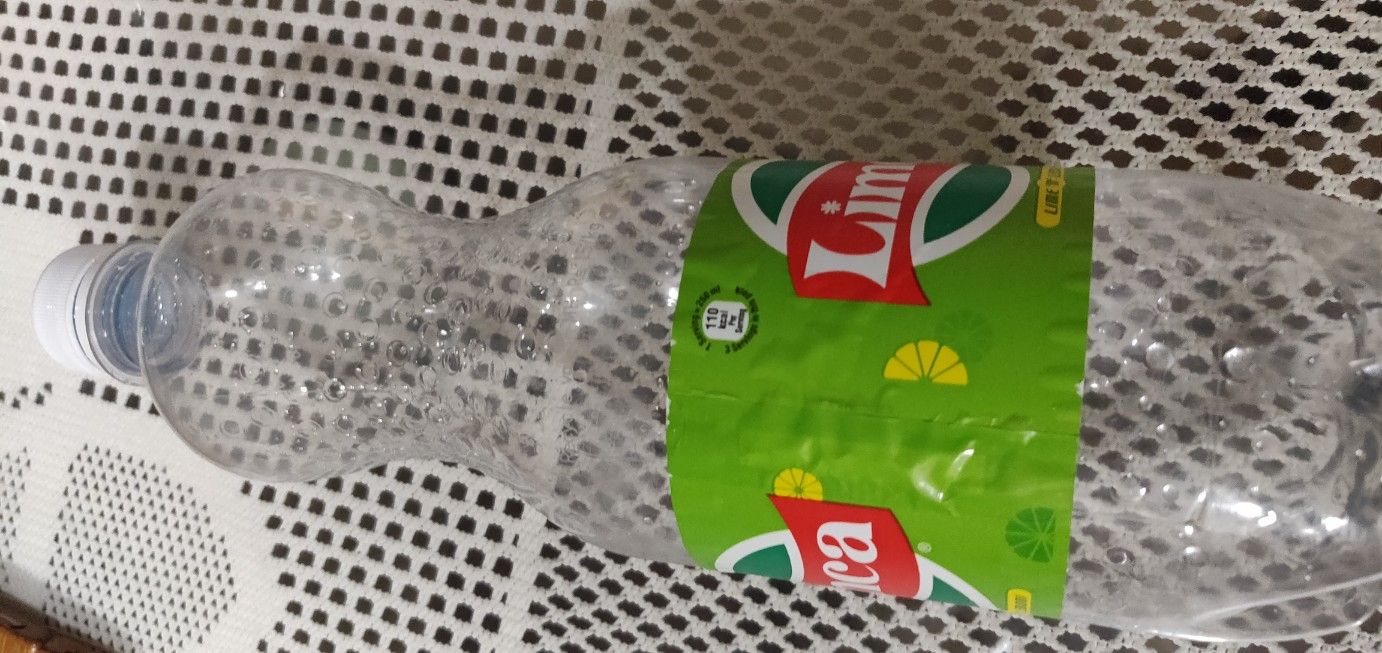Electronics: (13, 115, 1380, 653)
